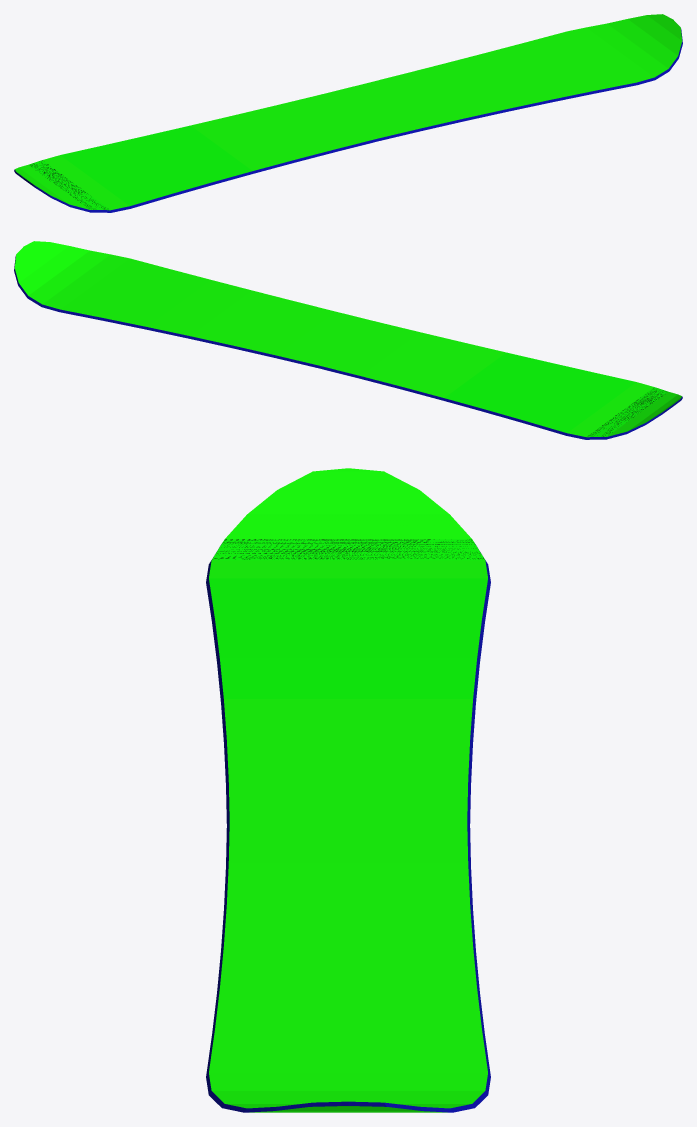
File: snowboard.dae
The picture shows the model from 3 angles, top to bottom: view 1: azimuth 30°, elevation 25°; view 2: azimuth 150°, elevation 25°; view 3: azimuth 270°, elevation 25°; orthographic projection. The views are drawn at different scales.
Parts seen in each view (by area): view 1: SketchUp_002, SketchUp_003, SketchUp_001, SketchUp_006, SketchUp_005, SketchUp_004; view 2: SketchUp_002, SketchUp_003, SketchUp_001, SketchUp_006, SketchUp_005, SketchUp_004; view 3: SketchUp_002, SketchUp_003, SketchUp_004, SketchUp_005, SketchUp_006, SketchUp_001.
Part boxes in pixels (bbox=[...]): SketchUp_002: bbox=[191, 14, 682, 170]; SketchUp_003: bbox=[60, 125, 252, 205]; SketchUp_001: bbox=[14, 29, 682, 212]; SketchUp_006: bbox=[43, 155, 129, 209]; SketchUp_005: bbox=[28, 160, 110, 210]; SketchUp_004: bbox=[15, 165, 89, 209]; SketchUp_002: bbox=[14, 241, 505, 397]; SketchUp_003: bbox=[444, 352, 636, 432]; SketchUp_001: bbox=[14, 256, 682, 439]; SketchUp_006: bbox=[567, 382, 653, 436]; SketchUp_005: bbox=[586, 387, 668, 437]; SketchUp_004: bbox=[607, 392, 681, 436]; SketchUp_002: bbox=[209, 699, 487, 1108]; SketchUp_003: bbox=[209, 578, 487, 698]; SketchUp_004: bbox=[225, 468, 471, 539]; SketchUp_005: bbox=[212, 539, 484, 560]; SketchUp_006: bbox=[209, 560, 487, 578]; SketchUp_001: bbox=[206, 544, 490, 1112].
Size of the model in its own units: 1.58 by 0.3 by 0.0522.
